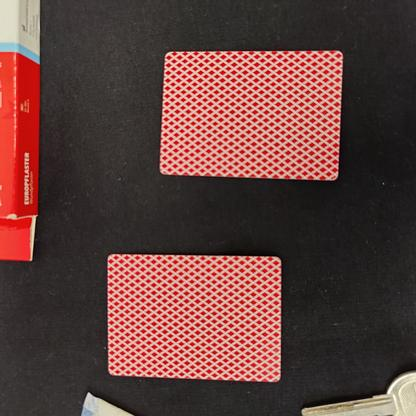card: (151, 42, 347, 192), (98, 242, 288, 387)
